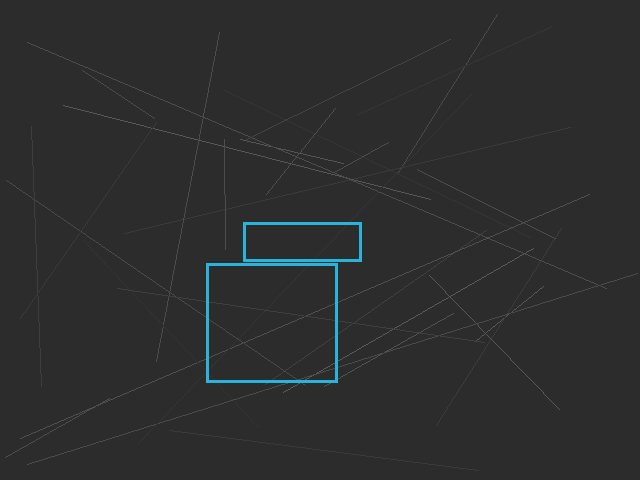D10: (206, 263, 337, 382), (243, 222, 361, 261)
